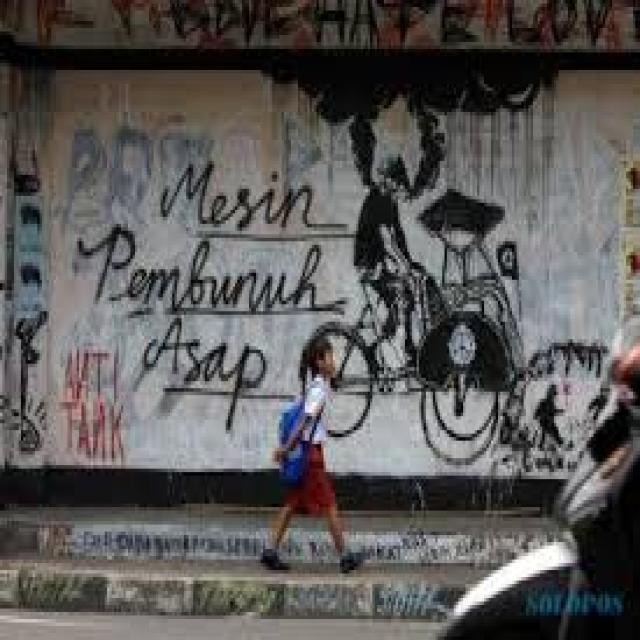-: (298, 88, 610, 464), (70, 165, 344, 430), (0, 148, 48, 452), (68, 342, 125, 461)
